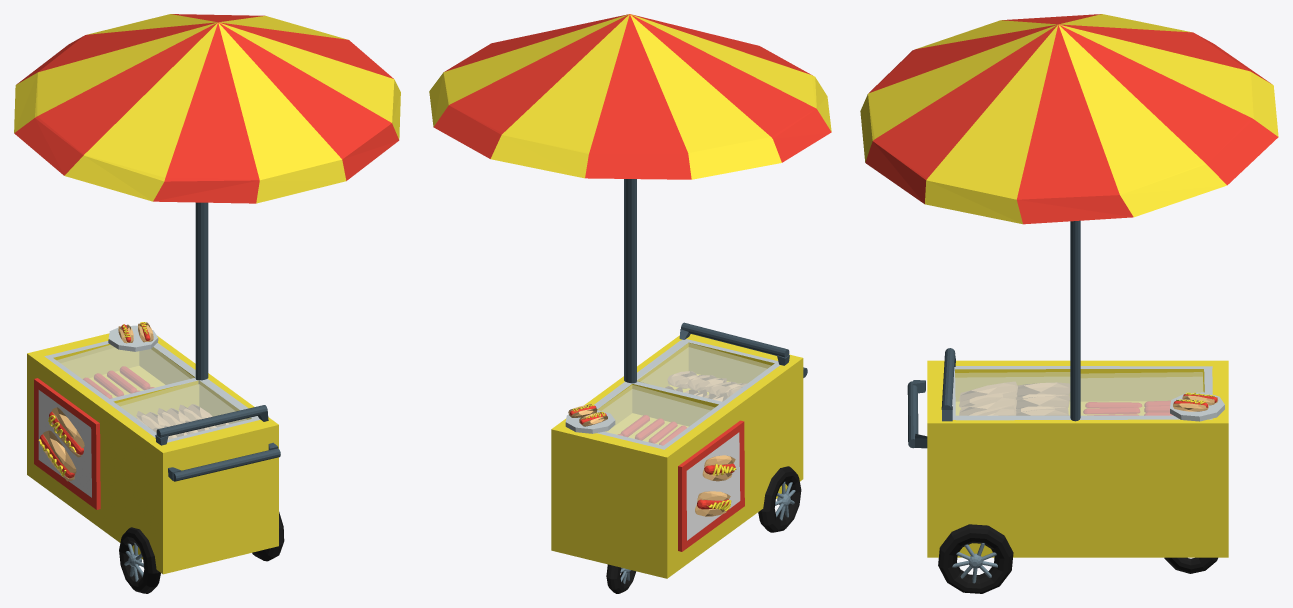
The model's file is HotDog Stand.fbx.
3 renders of one model, left to right at view 1: azimuth 30°, elevation 25°; view 2: azimuth 150°, elevation 25°; view 3: azimuth 270°, elevation 25°, orthographic. The views are drawn at different scales.
Parts seen in each view (by area): view 1: model; view 2: model; view 3: model.
Part boxes in pixels (x1,y1,x2,y2): model: (14,14,400,593); model: (429,14,831,593); model: (860,14,1278,593).
Size of the model in its own units: 86.3 by 125 by 81.81.
